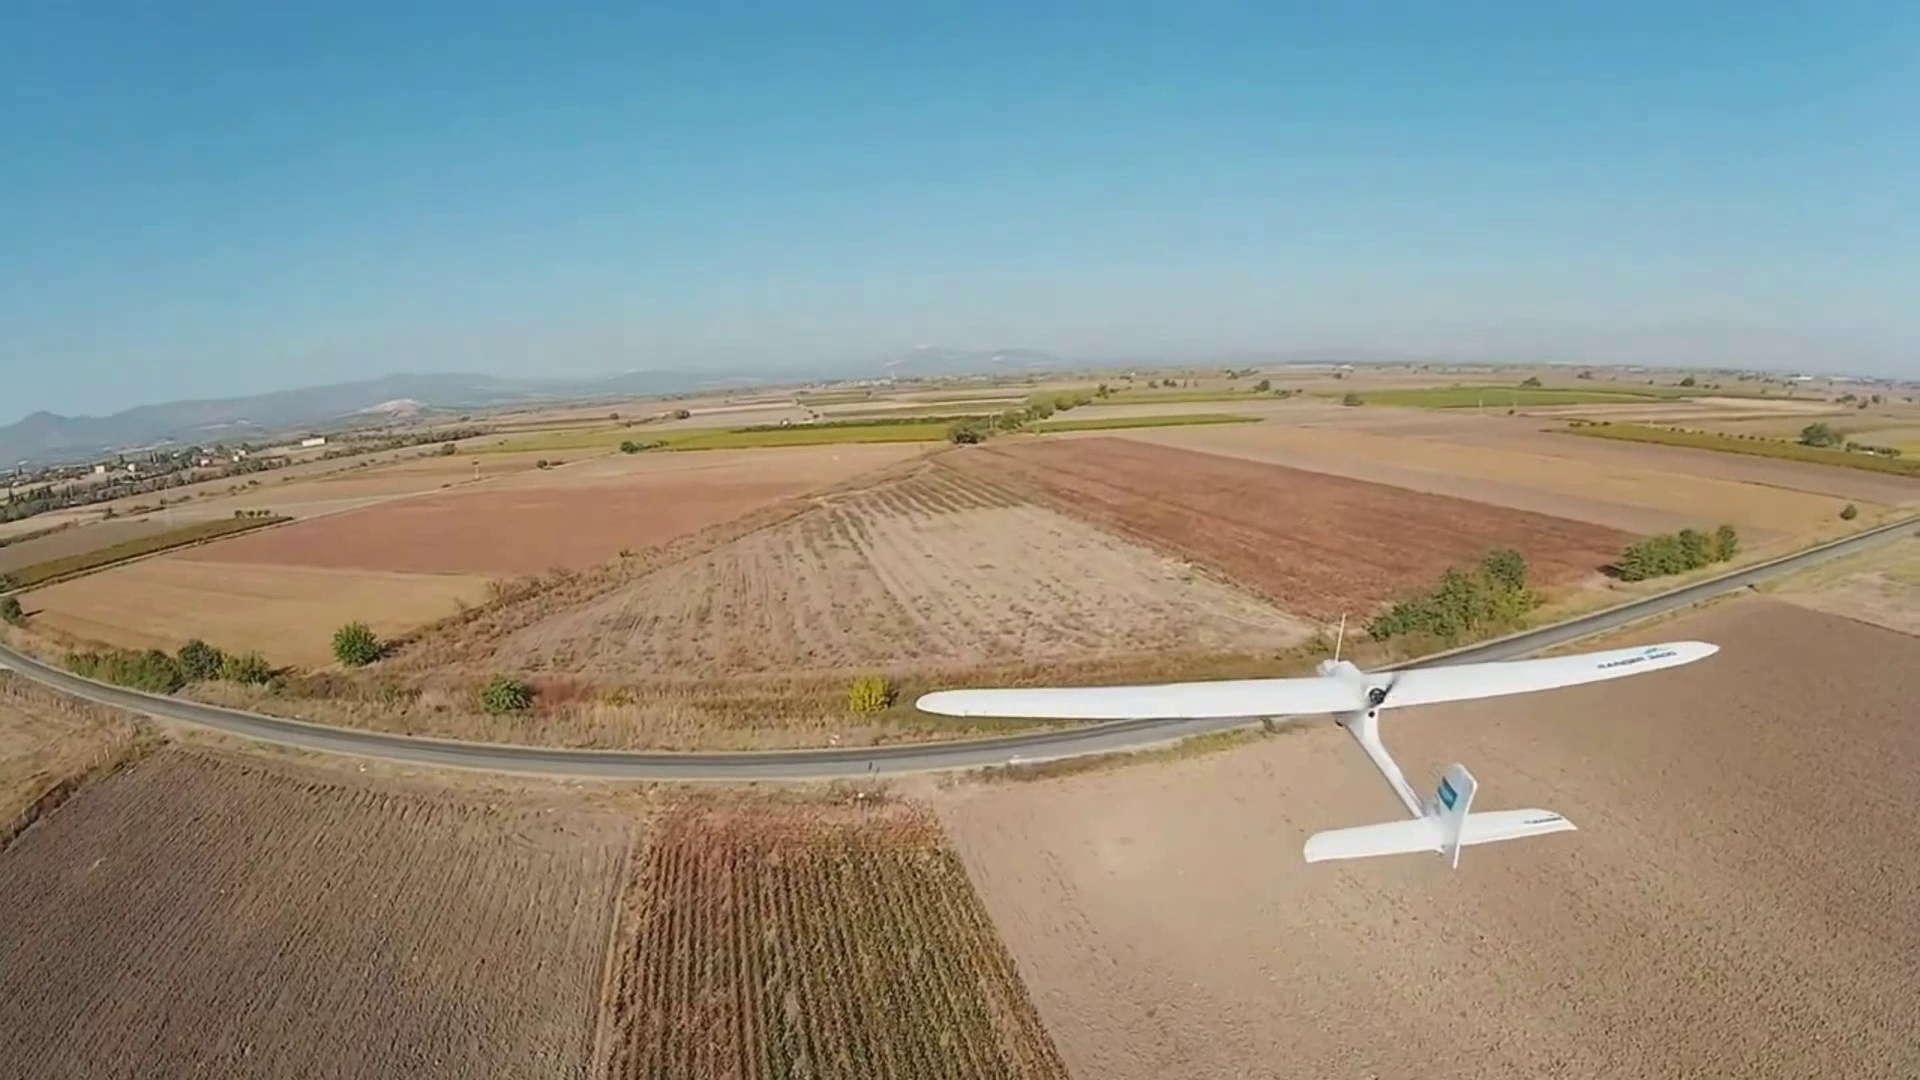airplane: (3, 618, 1734, 866), (914, 495, 1905, 862), (915, 615, 1726, 862)
